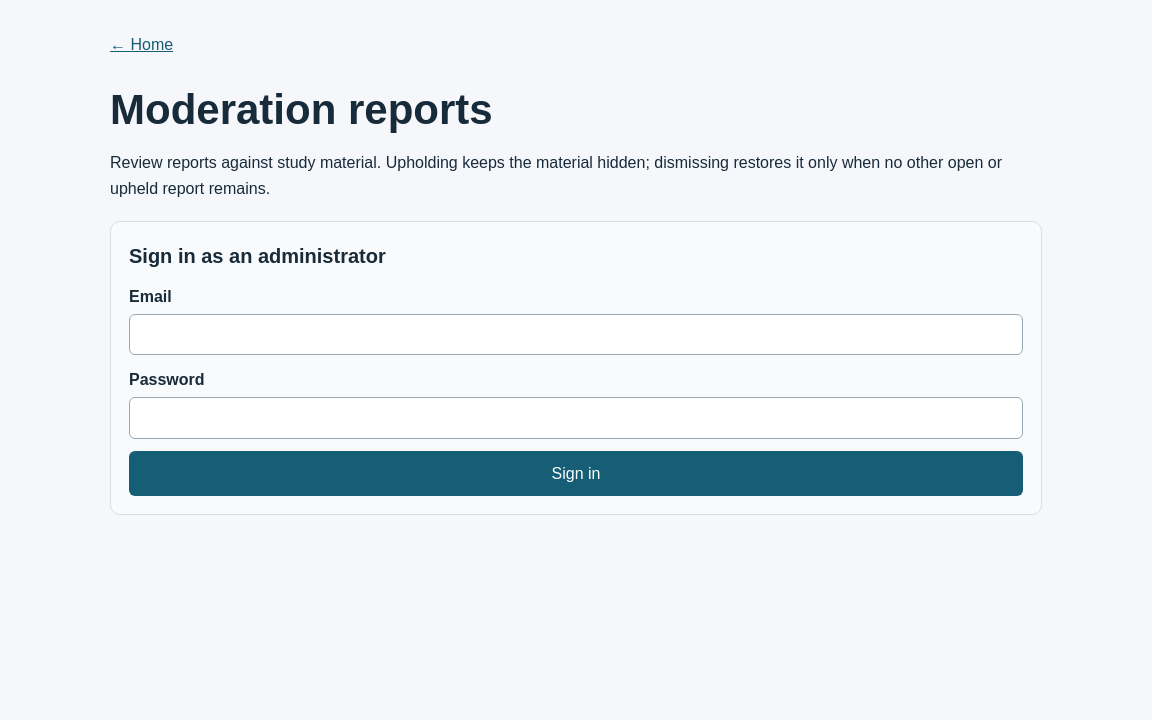
admin reviews queue, renders notes as plain text, and decides reports
In the field labelled "Email": x=576, y=335 [129, 314, 1023, 355], type "admin@example.com"
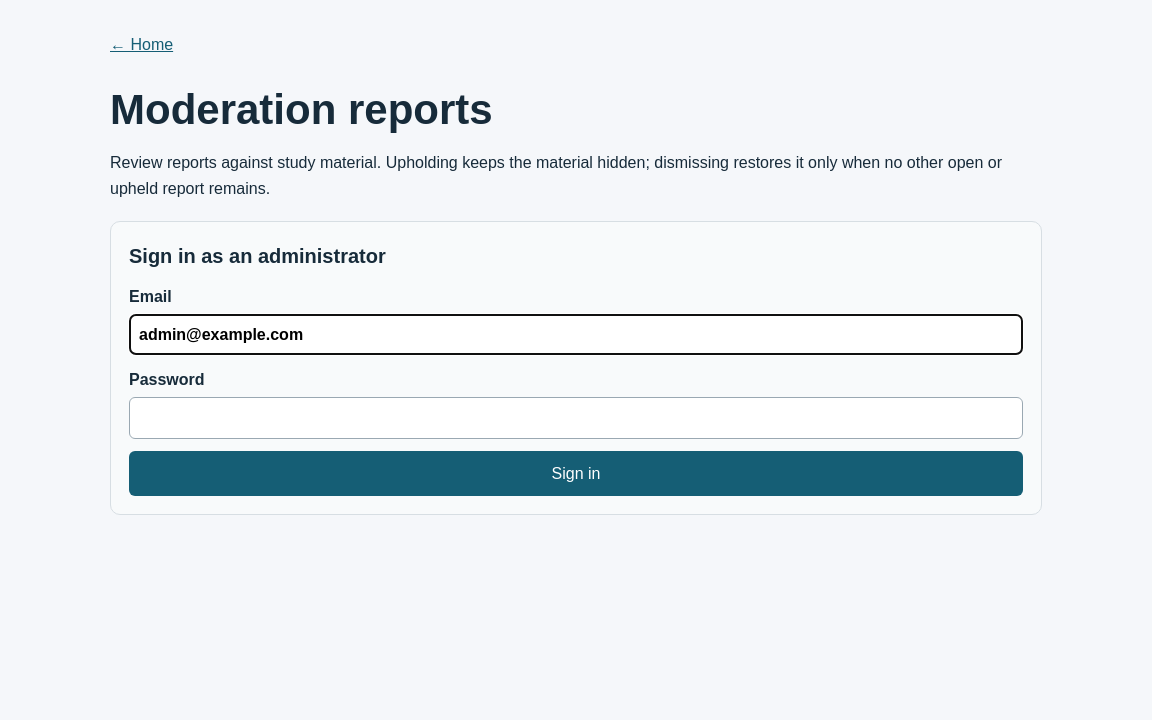
In the password field labelled "Password": x=576, y=418 [129, 397, 1023, 439], type "Study1234"
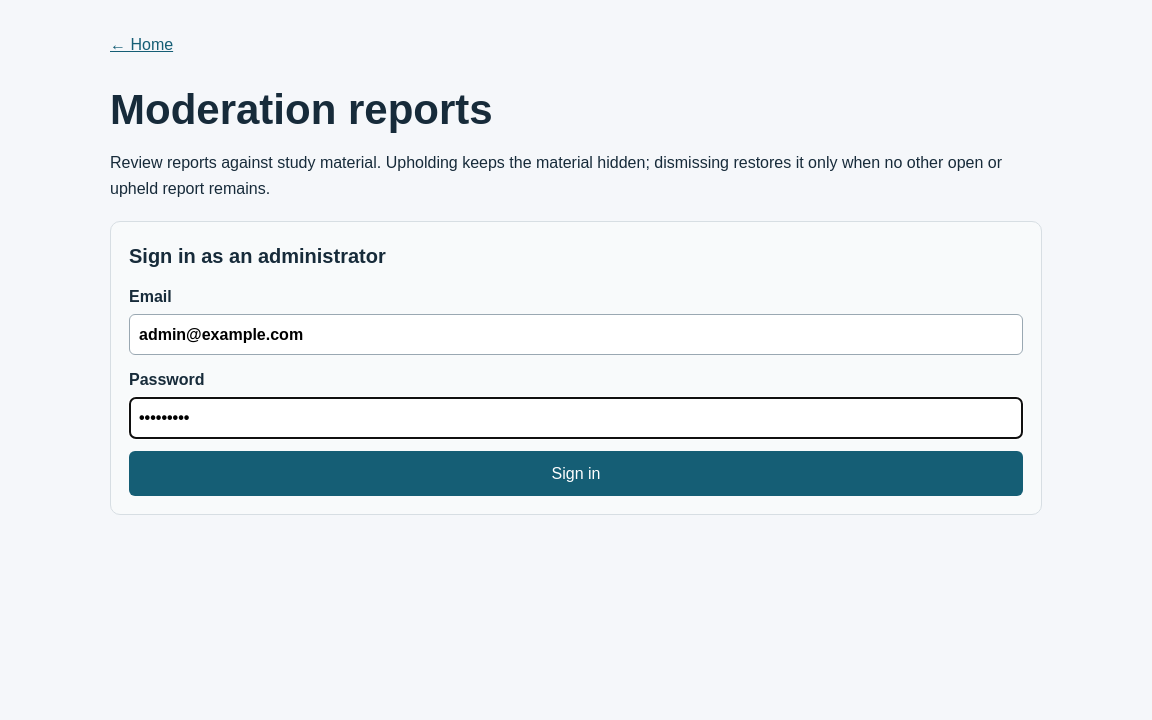
Click the button "Sign in": x=576, y=473 [129, 451, 1023, 496]
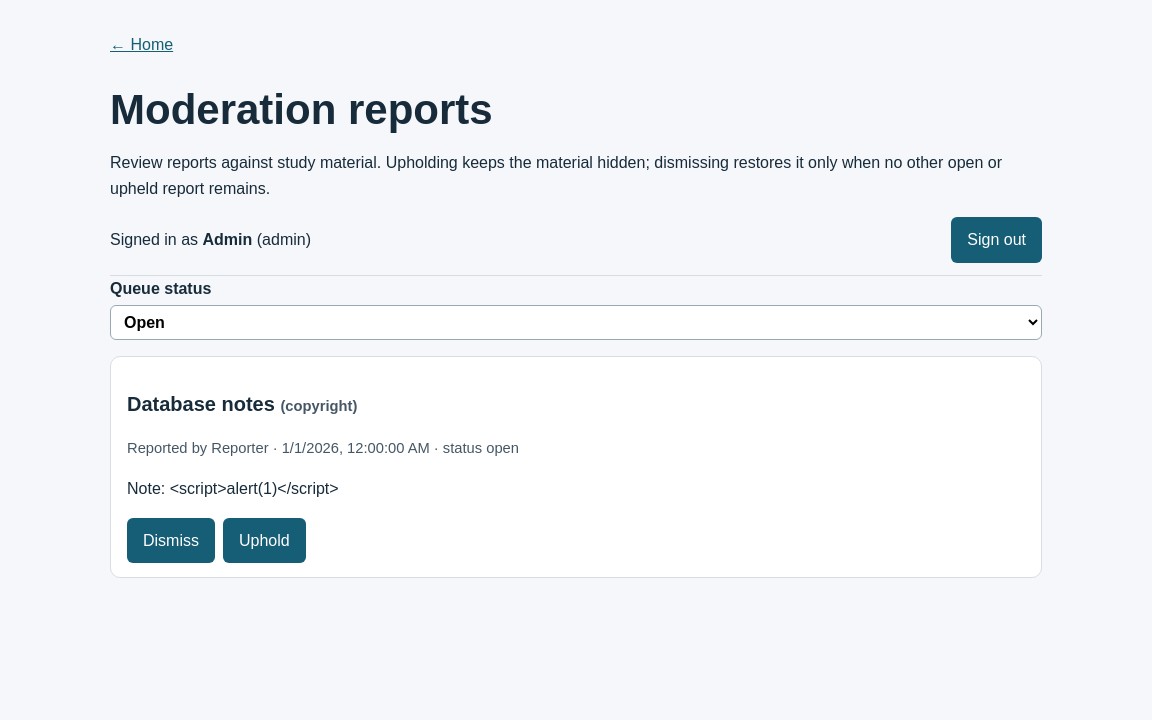
expect the heading "Database notes (copyright)" is shown: met, box [127, 393, 357, 415]
expect the text "<script>alert(1)</script>" is shown: met, box [170, 480, 339, 497]
Click the button "Dismiss": x=171, y=540 [127, 518, 215, 563]
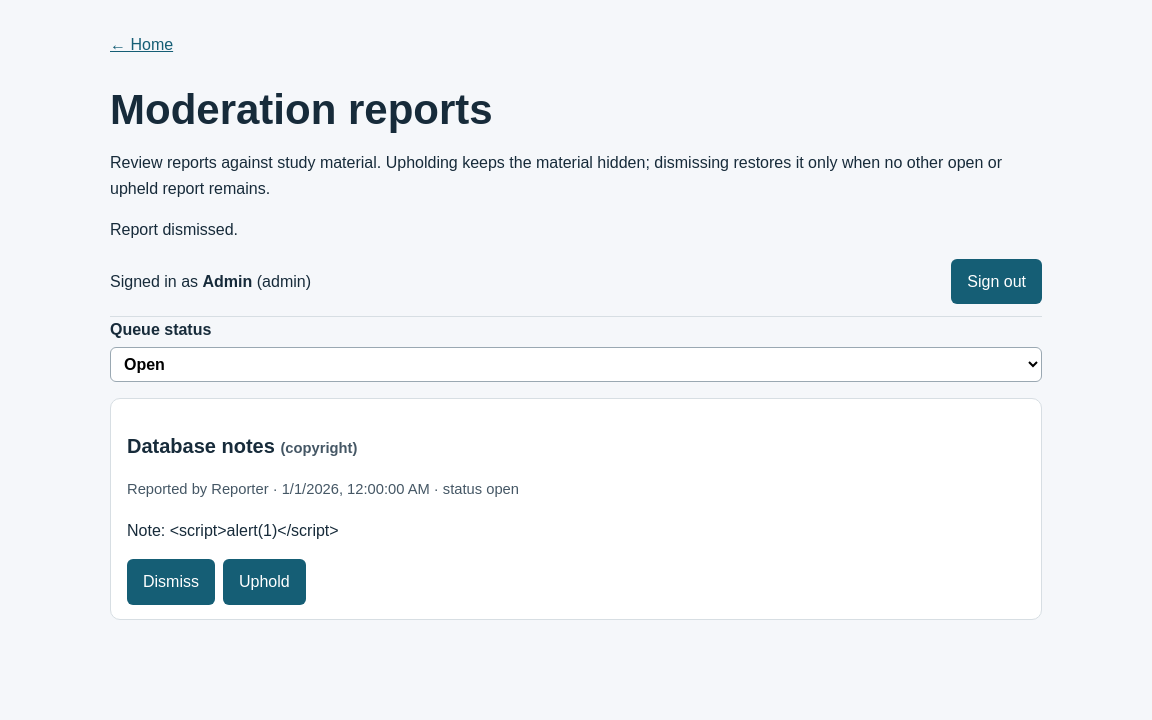
expect the text "Report dismissed." is shown: met, box [110, 221, 238, 238]
Select "Dismissed" in the dropdown labelled "Queue status": x=576, y=364 [110, 347, 1042, 382]
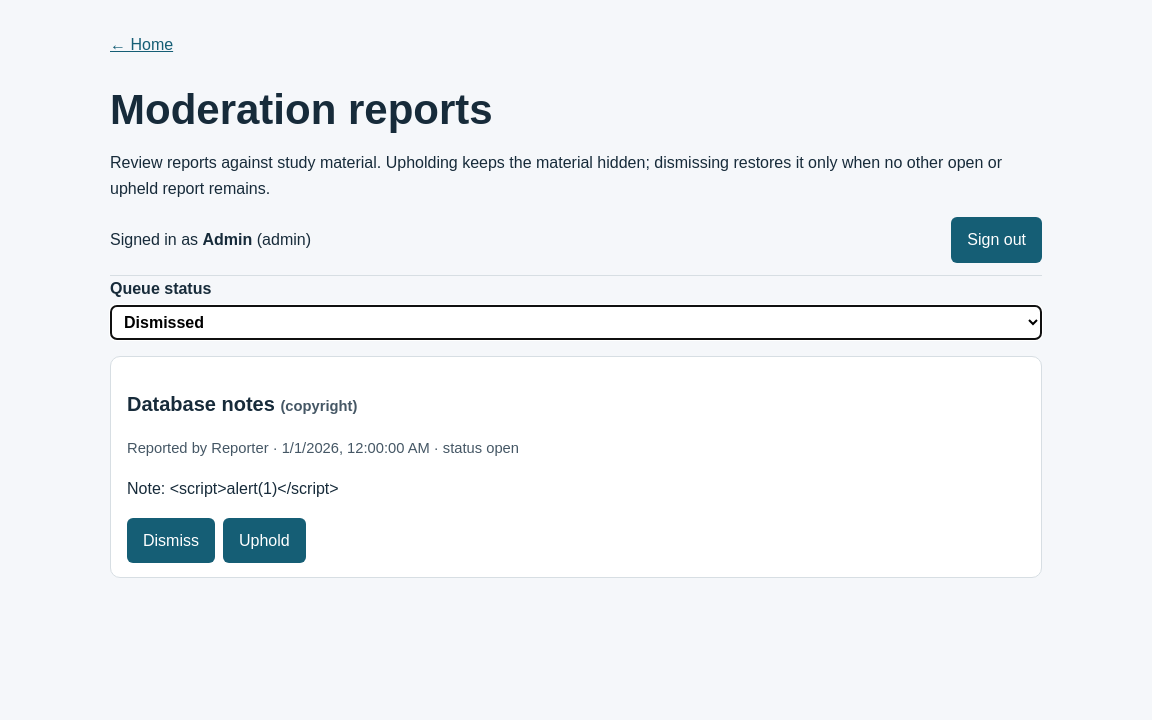
Click the button "Sign out": x=997, y=240 [951, 217, 1042, 263]
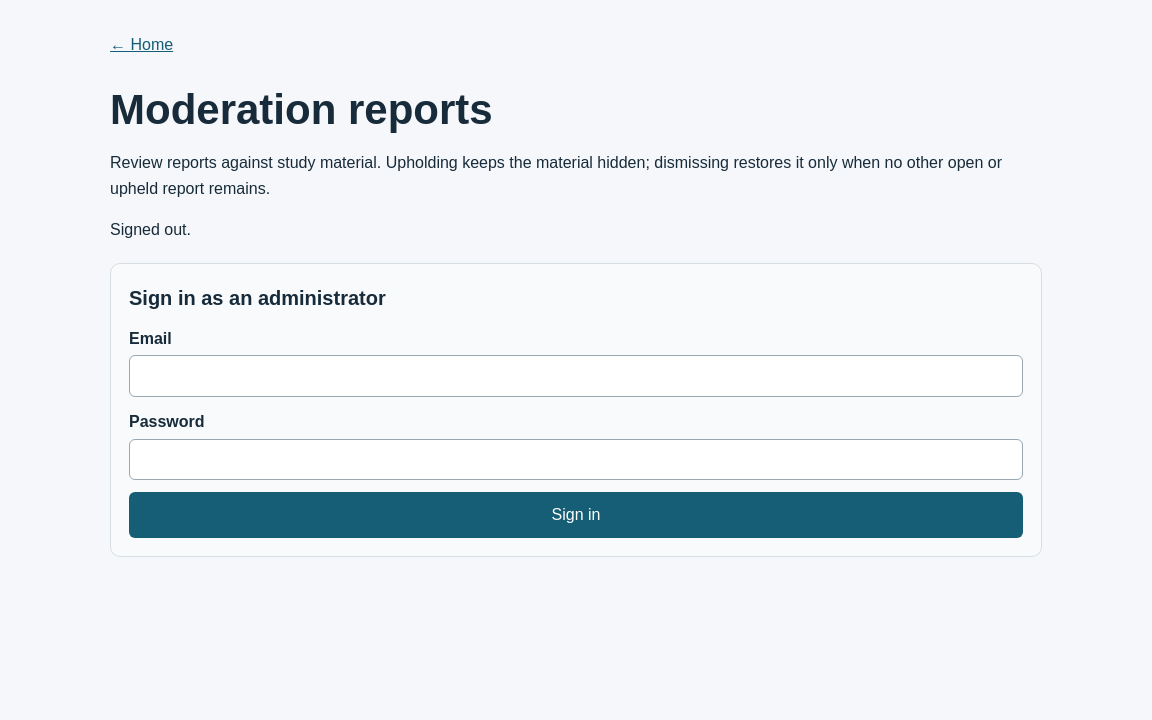
expect the button "Sign in" is shown: met, box [129, 492, 1023, 538]
